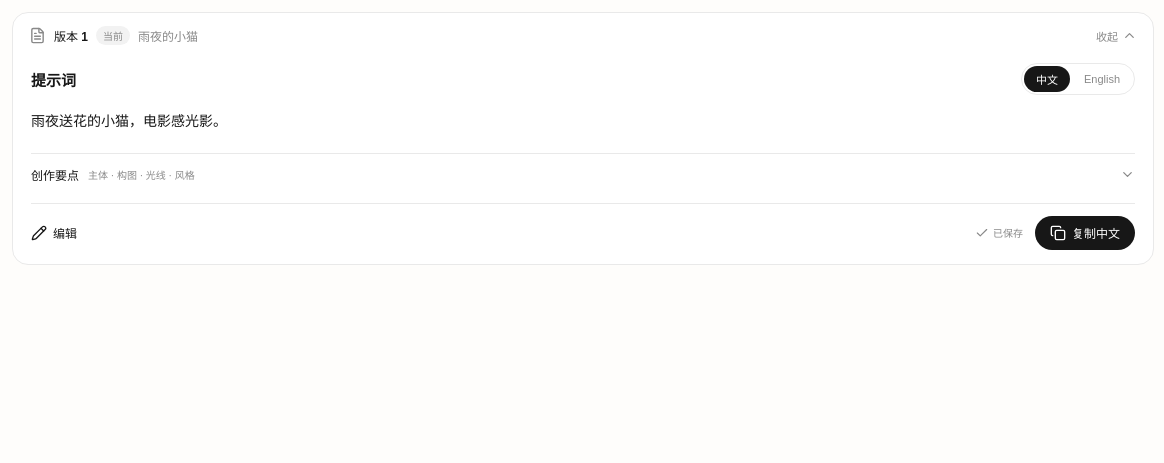
Test: version-specific creation result › keeps a conflicting draft copyable and prevents a blind overwrite retry
Click the button "编辑" at (54, 233), box [31, 216, 77, 250]
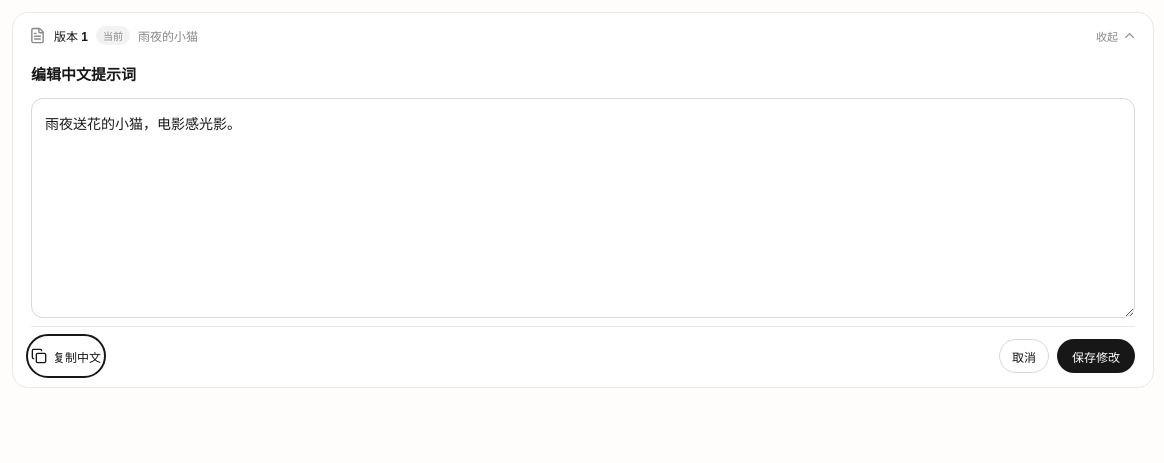
Replace the text in the text box with "冲突后保留的草稿" at (583, 208), box [31, 98, 1135, 318]
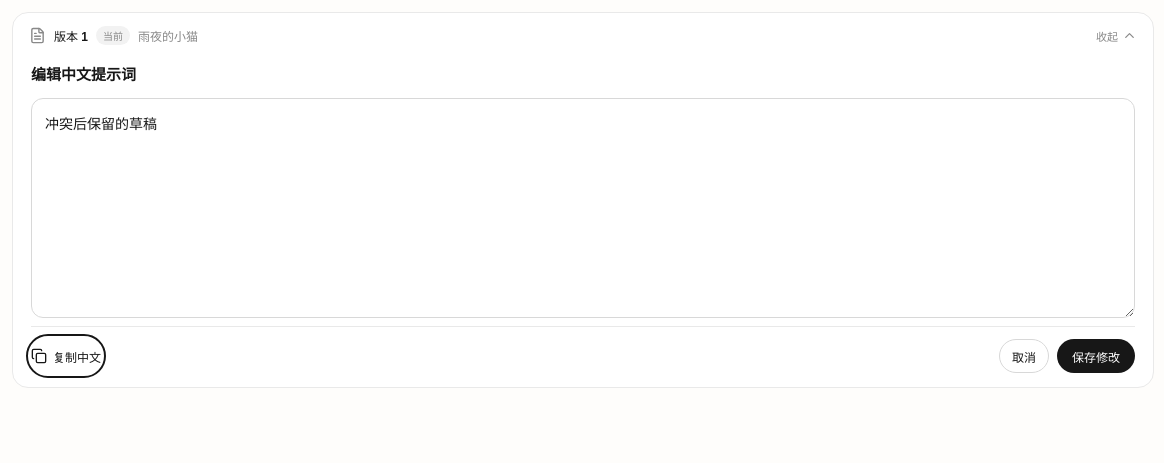
Click the button "保存修改" at (1096, 356), box [1057, 339, 1135, 373]
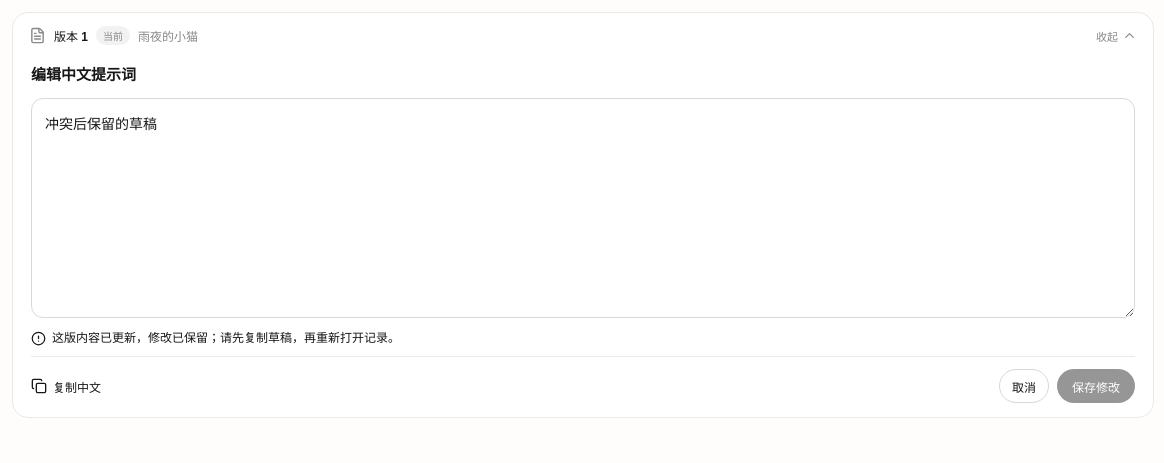
Expected: the message shows "修改已保留", [52, 331, 400, 345]
Expected: the button "保存修改" is disabled, [1057, 369, 1135, 403]
Click the button "复制中文" at (66, 386), box [31, 369, 101, 403]
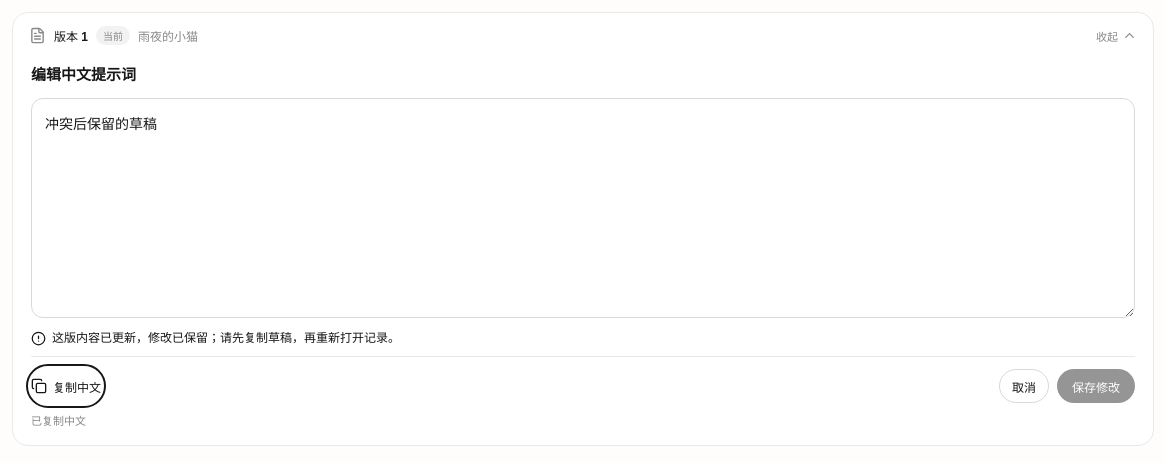
Click the button "取消" at (1024, 386), box [999, 369, 1049, 403]
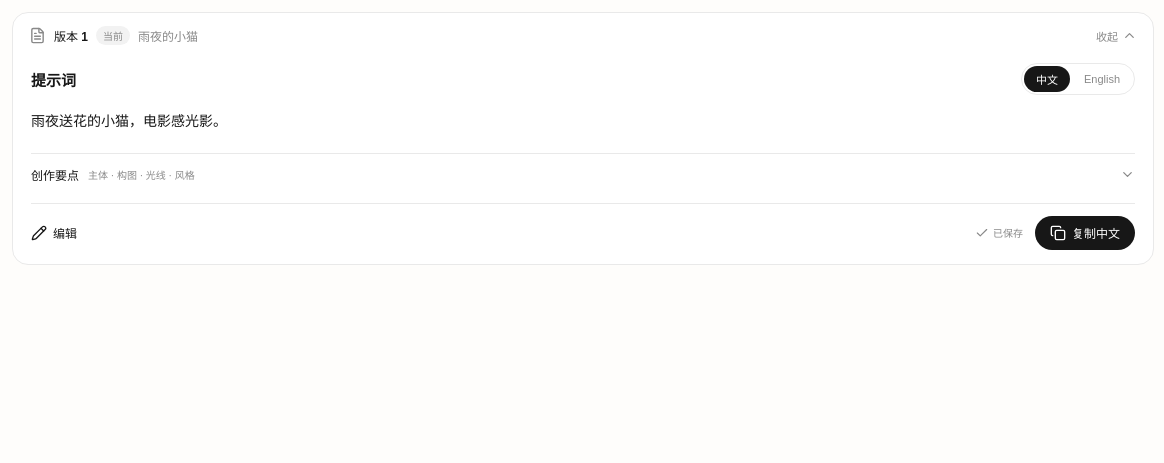
Expected: the text "雨夜送花的小猫，电影感光影。" is shown, [31, 113, 227, 129]
